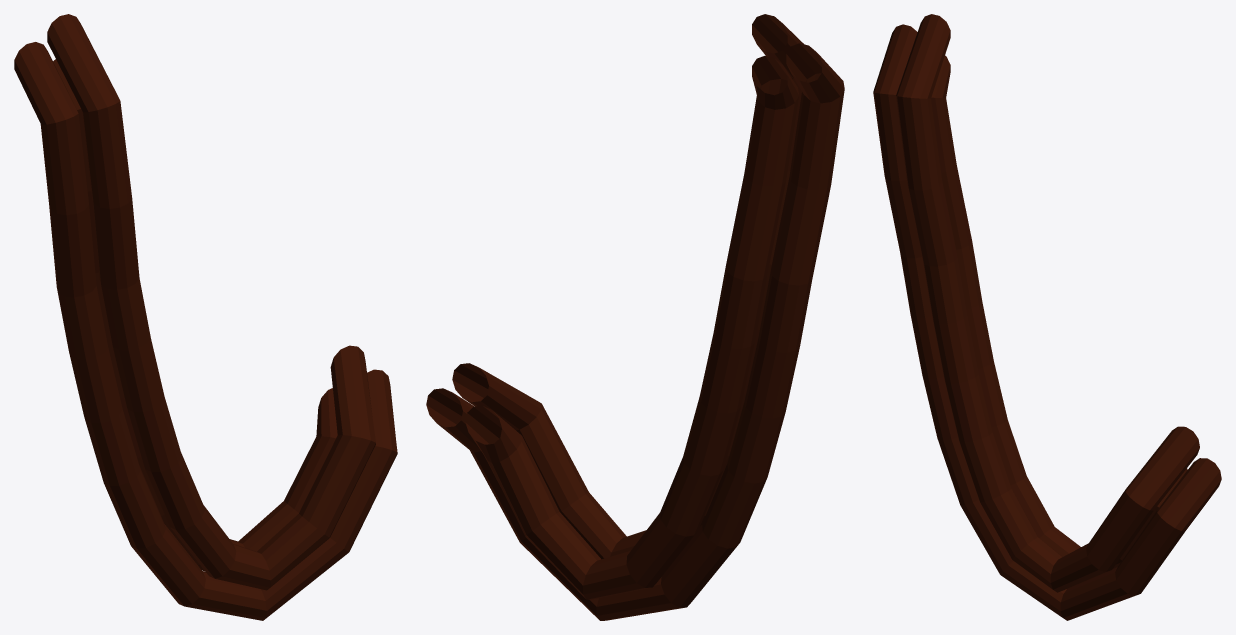
Rendered from Cables2.fbx.
The picture shows the model from 3 angles, left to right: view 1: azimuth 30°, elevation 25°; view 2: azimuth 150°, elevation 25°; view 3: azimuth 330°, elevation 25°; orthographic projection. The views are drawn at different scales.
Visible parts, largest first — view 1: cable; view 2: cable; view 3: cable.
Part boxes in pixels (box(x1,y1,x2,y2)): cable: box(14, 14, 397, 620); cable: box(426, 14, 844, 620); cable: box(873, 14, 1221, 620).
Size of the model in its own units: 49.92 by 80.21 by 11.01.
